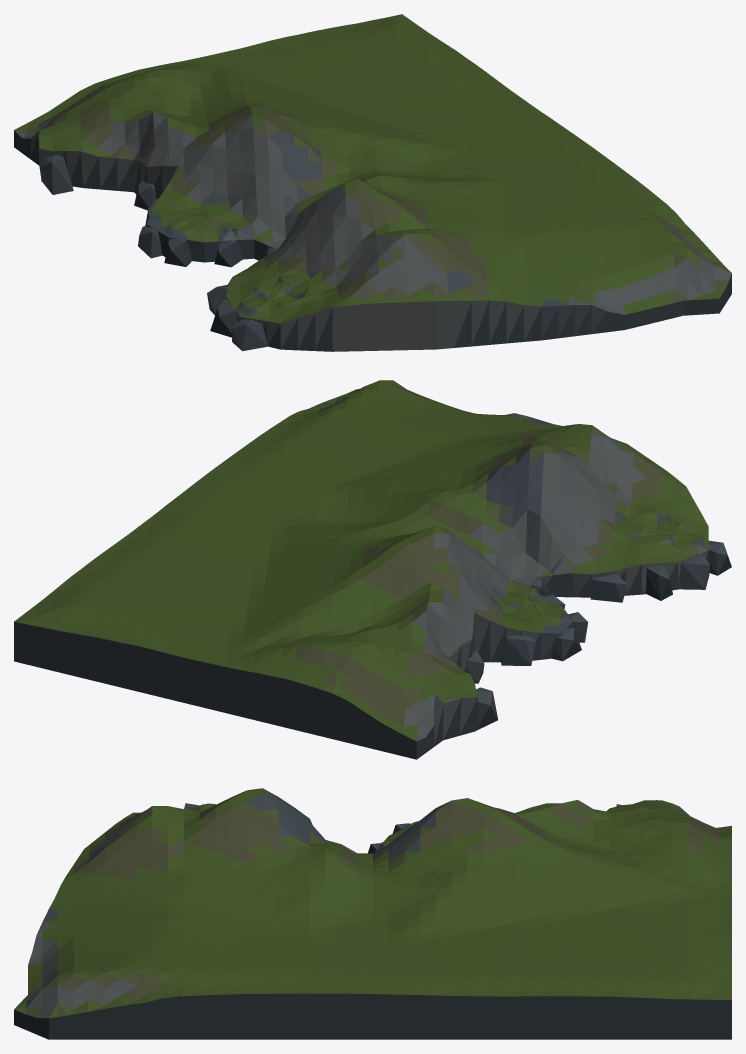
Rendered from mainland_headland.glb.
3 views of the same model, one above another, from view 1: azimuth 30°, elevation 25°; view 2: azimuth 150°, elevation 25°; view 3: azimuth 270°, elevation 25° (orthographic). The views are drawn at different scales.
Visible parts, largest first — view 1: Mainland headland continuous bedrock and grass terraces; view 2: Mainland headland continuous bedrock and grass terraces; view 3: Mainland headland continuous bedrock and grass terraces.
Boxes of the visible parts, bbox=[...] form: Mainland headland continuous bedrock and grass terraces: bbox=[14, 14, 731, 351]; Mainland headland continuous bedrock and grass terraces: bbox=[14, 380, 731, 759]; Mainland headland continuous bedrock and grass terraces: bbox=[14, 788, 731, 1039].
Size of the model in its own units: 293 by 68.9 by 410.
